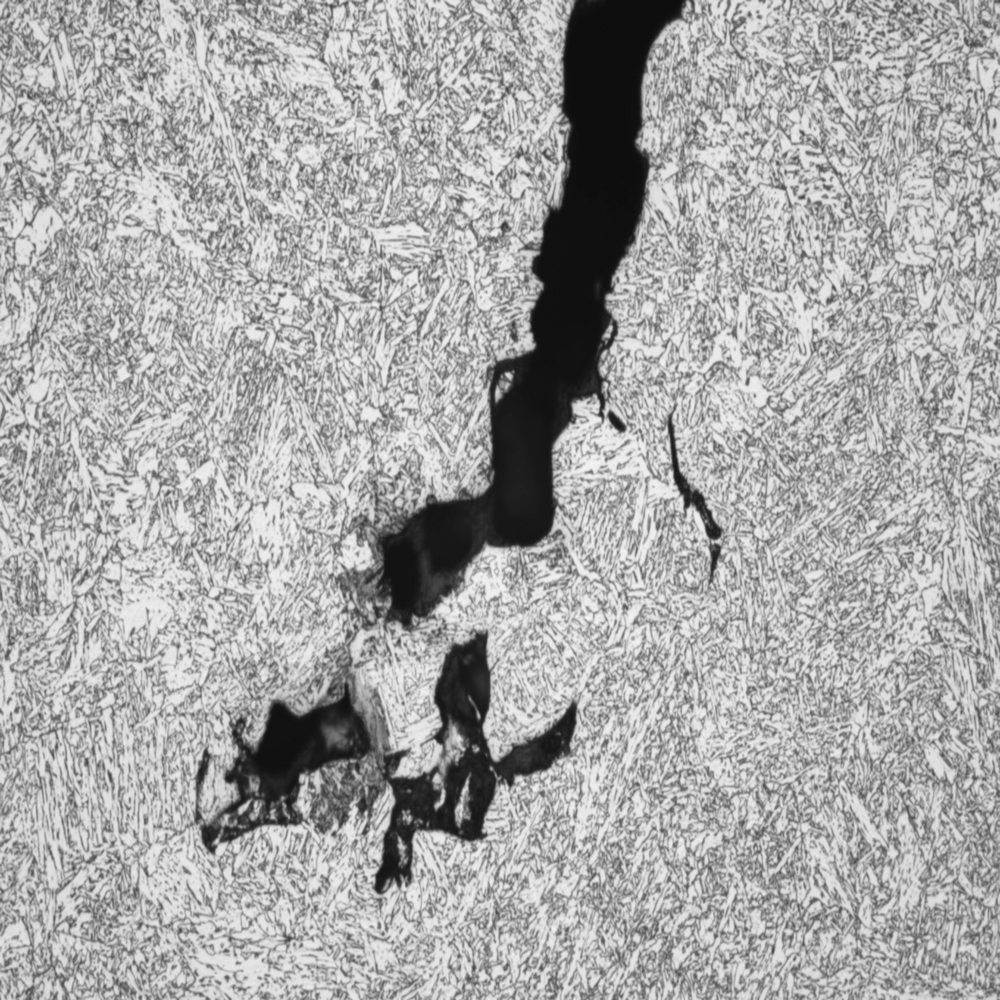crack: (361, 1, 719, 656), (183, 623, 579, 896)
